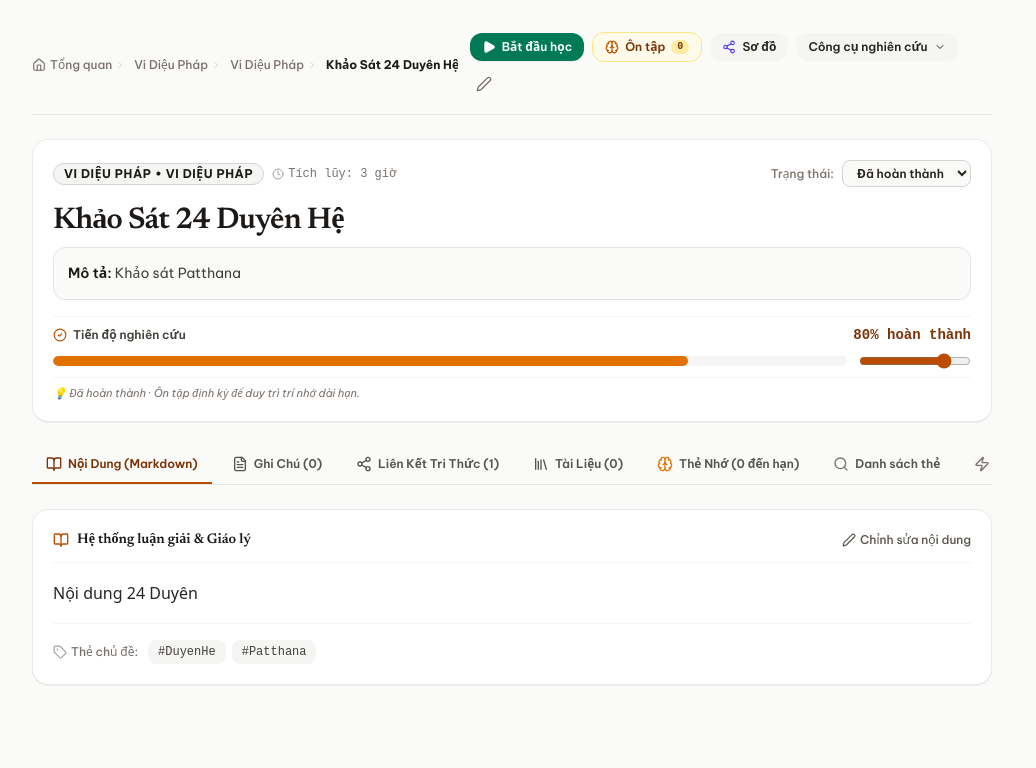
Scenario: TopicDetail Resilience & Safe Collection Rendering › 3. renders normally when topic.links and topic.tags are valid arrays
Expected: the text "#DuyenHe" is shown, [148, 640, 226, 664]
Expected: the text "#Patthana" is shown, [232, 640, 316, 664]
Note: Switch to links tab
Click the button "Liên Kết Tri Thức (1)" at (428, 465), box [342, 446, 513, 484]
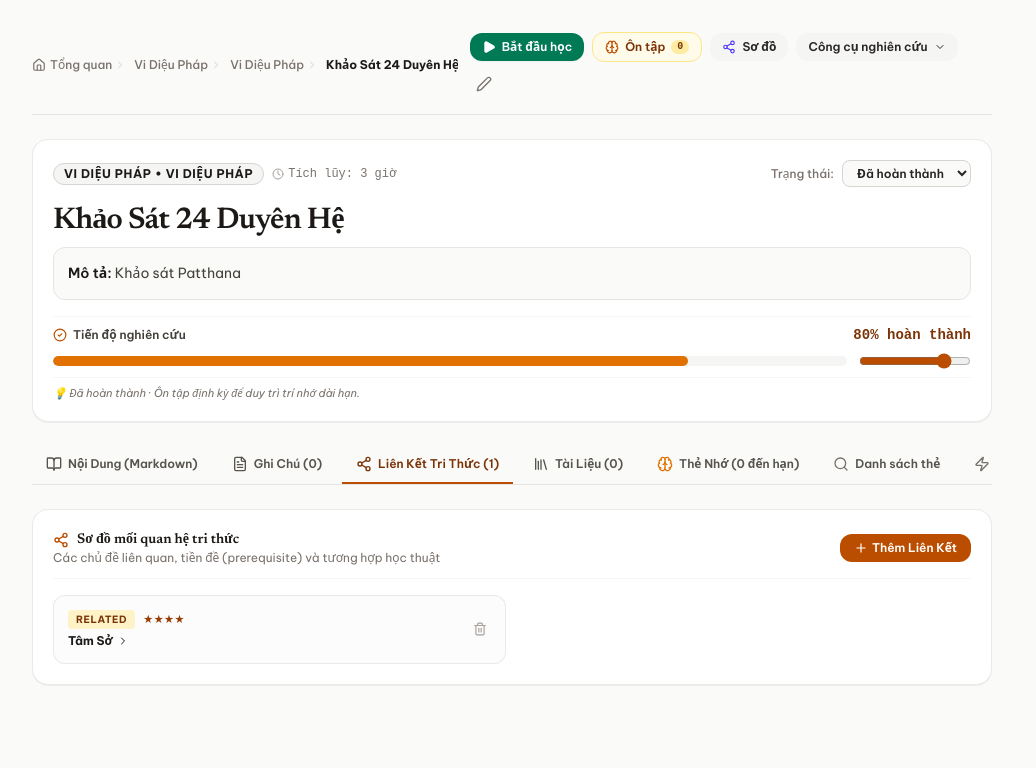
Now the heading "Tâm Sở" is shown, box [68, 633, 129, 648]
